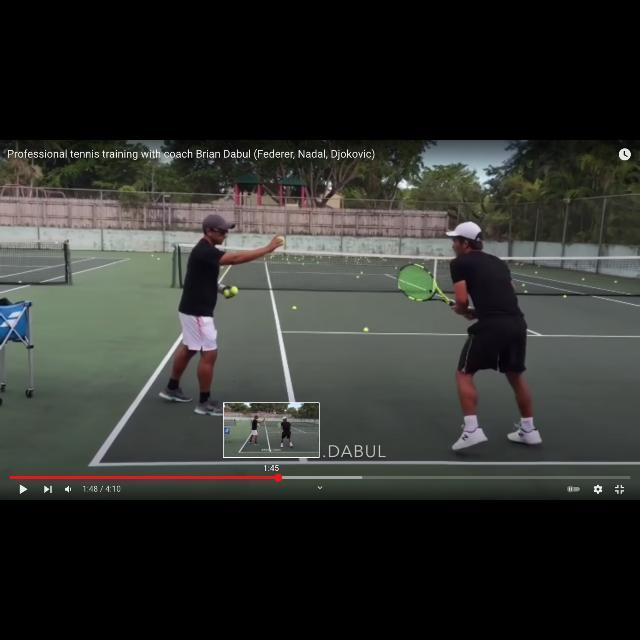tennis-ball: (230, 286, 238, 294), (363, 326, 369, 332), (292, 306, 297, 311), (562, 295, 566, 299)
